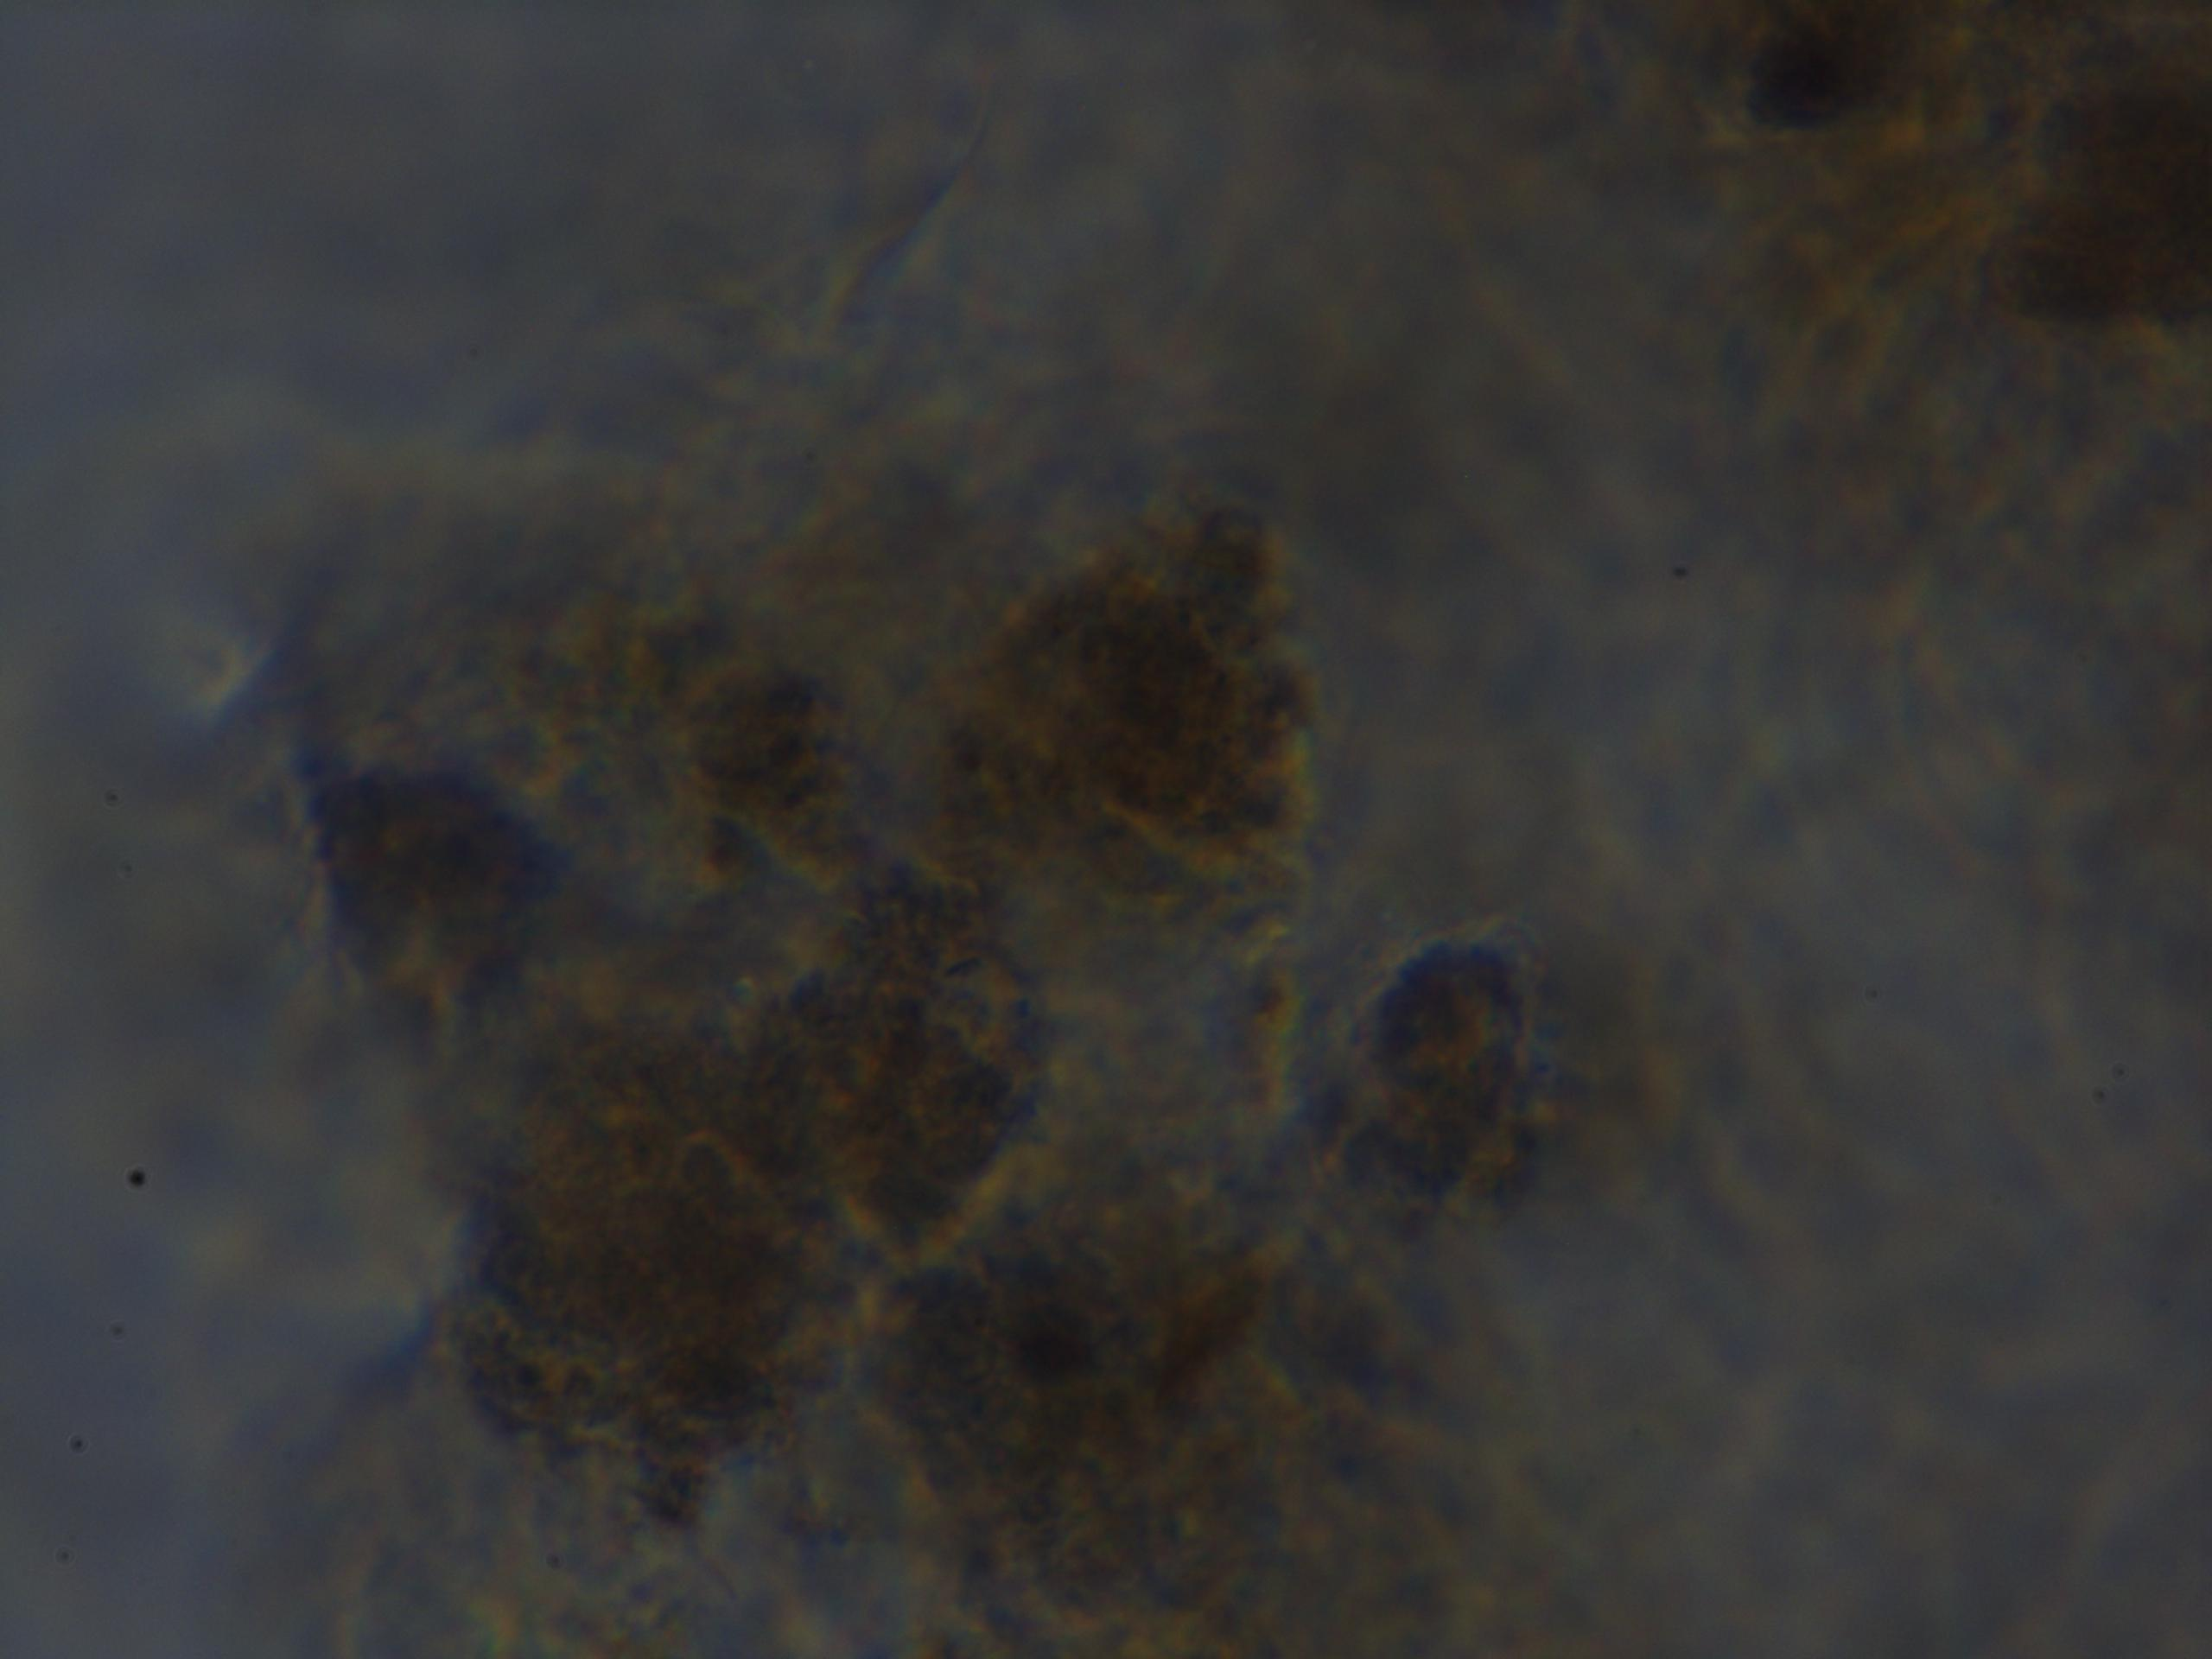open_floc: (298, 493, 1583, 1600)
